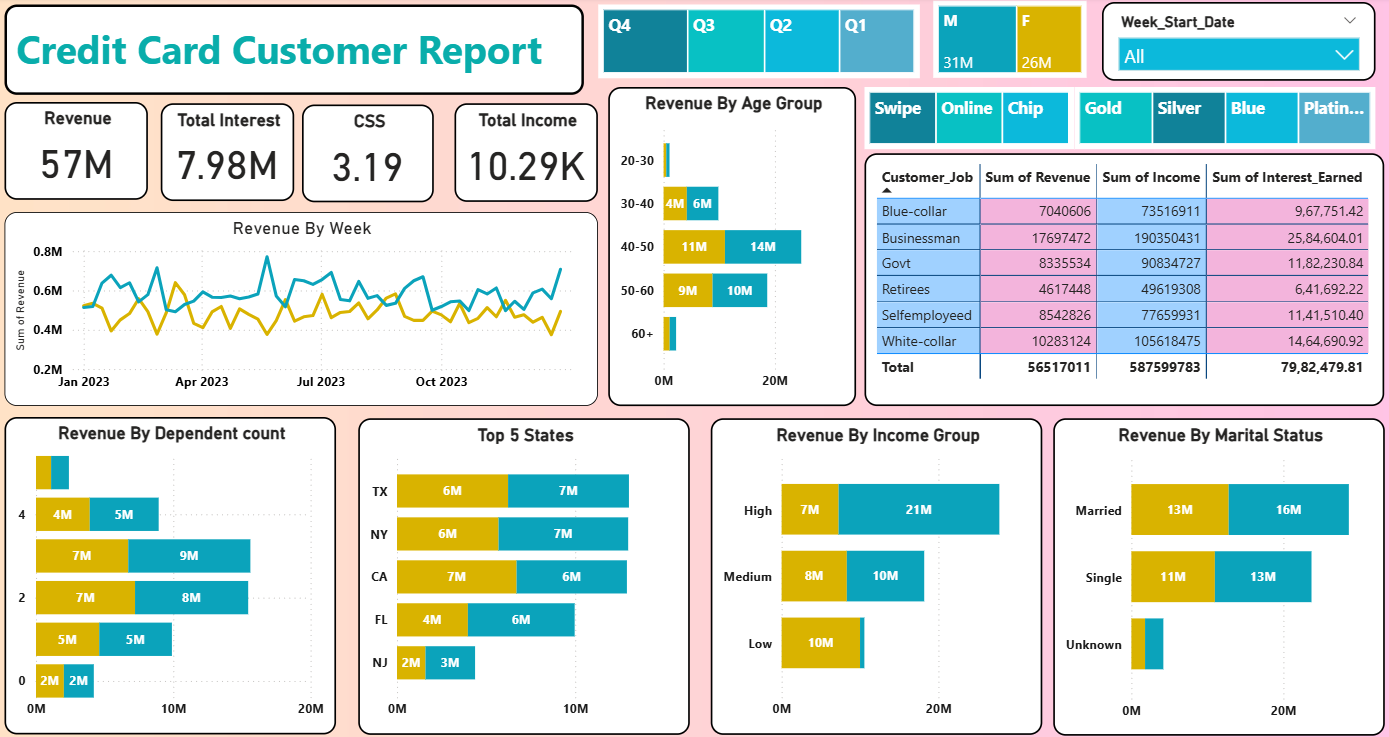

The page's visual inventory and layout, read from the dashboard file:
{"tool":"powerbi","page":{"name":"CC_Cusomer","canvas":[1350,720],"ordinal":0},"visuals":[{"type":"textbox","box":[7.4,7.4,559.2,87.1],"z":0},{"type":"barChart","title":" Revenue By Income Group","fields":{"Y":["Sum(cc_detail.Revenue)"],"Category":["cust_detail.IncomeGroup"],"Series":["cust_detail.Gender"]},"box":[689.2,407.2,320,305.4],"z":1000},{"type":"tableEx","fields":{"Values":["cust_detail.Customer_Job","Sum(cc_detail.Revenue)","cust_detail.Income","Sum(cc_detail.Interest_Earned)"]},"box":[837.3,150.8,501.9,243.7],"z":2000},{"type":"card","title":"Revenue ","fields":{"Values":["Sum(cc_detail.Revenue)"]},"box":[7.4,101.8,138.6,94.4],"z":3000},{"type":"card","title":"Total Interest ","fields":{"Values":["Sum(cc_detail.Interest_Earned)"]},"box":[158.2,103,128.8,94.4],"z":4000},{"type":"card","title":"Total Income","fields":{"Values":["CountNonNull(cust_detail.Income)"]},"box":[441.6,102.5,138.7,95.3],"z":5000},{"type":"card","title":"CSS","fields":{"Values":["Avg(cust_detail.Cust_Satisfaction_Score)"]},"box":[294.3,104.2,127.5,94.4],"z":6000},{"type":"slicer","fields":{"Values":["cc_detail.Week_Start_Date"]},"box":[1066.5,4.8,264.2,76],"z":7000},{"type":"treemap","fields":{"Group":["cc_detail.Qtr"],"Values":["Avg(cc_detail.Client_Num)"]},"box":[580.3,7.2,310.1,71.2],"z":8000},{"type":"treemap","fields":{"Values":["Avg(cc_detail.Client_Num)"],"Group":["cc_detail.Card_Category"]},"box":[1040,87.1,290.7,60.1],"z":9000},{"type":"treemap","fields":{"Group":["cust_detail.Gender"],"Values":["Sum(cc_detail.Revenue)"]},"box":[903.6,3.6,148.4,74.8],"z":10000},{"type":"lineChart","title":"Revenue By Week","fields":{"Y":["Sum(cc_detail.Revenue)"],"Series":["cust_detail.Gender"],"Category":["cc_detail.Week_Start_Date.Variation.Date Hierarchy.Year","cc_detail.Week_Start_Date.Variation.Date Hierarchy.Quarter","cc_detail.Week_Start_Date.Variation.Date Hierarchy.Month","cc_detail.Week_Start_Date.Variation.Date Hierarchy.Day"]},"box":[7.2,207.5,573.1,187],"z":11000},{"type":"barChart","title":" Revenue By Age Group","fields":{"Y":["Sum(cc_detail.Revenue)"],"Category":["cust_detail.AgeGroup"],"Series":["cust_detail.Gender"]},"box":[589.9,87.1,239.1,307.8],"z":12000},{"type":"barChart","title":" Revenue By Dependent  count ","fields":{"Y":["Sum(cc_detail.Revenue)"],"Category":["cust_detail.Dependent_Count"],"Series":["cust_detail.Gender"]},"box":[7.2,405.4,320,306.4],"z":13000},{"type":"barChart","title":"Top 5 States ","fields":{"Y":["Sum(cc_detail.Revenue)"],"Category":["cust_detail.State_cd"],"Series":["cust_detail.Gender"]},"box":[348.3,407.2,320,305.4],"z":15000},{"type":"barChart","title":" Revenue By Marital Status","fields":{"Y":["Sum(cc_detail.Revenue)"],"Category":["cust_detail.Marital_Status"],"Series":["cust_detail.Gender"]},"box":[1019.1,407.2,320.1,306.6],"z":16000},{"type":"treemap","fields":{"Values":["Avg(cc_detail.Client_Num)"],"Group":["cc_detail.Use_Chip"]},"box":[837.6,87.1,202.4,60.1],"z":17000}]}

Visuals, with their boxes in screenshot pixels (x1, y1, x2, y2), scaled from the page's 1350x720 canvas onto the 1389x737 screenshot:
textbox: crop(8, 8, 583, 97)
" Revenue By Income Group" barChart: crop(709, 417, 1038, 729)
tableEx - cust_detail.Customer_Job x Sum(cc_detail.Revenue): crop(861, 154, 1378, 404)
"Revenue " card: crop(8, 104, 150, 201)
"Total Interest " card: crop(163, 105, 295, 202)
"Total Income" card: crop(454, 105, 597, 202)
"CSS" card: crop(303, 107, 434, 203)
slicer - cc_detail.Week_Start_Date: crop(1097, 5, 1369, 83)
treemap - cc_detail.Qtr x Avg(cc_detail.Client_Num): crop(597, 7, 916, 80)
treemap - Avg(cc_detail.Client_Num) x cc_detail.Card_Category: crop(1070, 89, 1369, 151)
treemap - cust_detail.Gender x Sum(cc_detail.Revenue): crop(930, 4, 1082, 80)
"Revenue By Week" lineChart: crop(7, 212, 597, 404)
" Revenue By Age Group" barChart: crop(607, 89, 853, 404)
" Revenue By Dependent  count " barChart: crop(7, 415, 337, 729)
"Top 5 States " barChart: crop(358, 417, 688, 729)
" Revenue By Marital Status" barChart: crop(1049, 417, 1378, 731)
treemap - Avg(cc_detail.Client_Num) x cc_detail.Use_Chip: crop(862, 89, 1070, 151)
